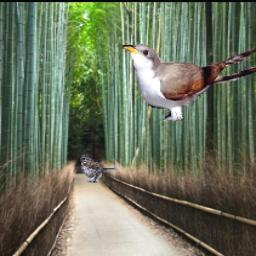Cuckoo: (121, 44, 256, 122)
Sparrow: (80, 154, 119, 183)
